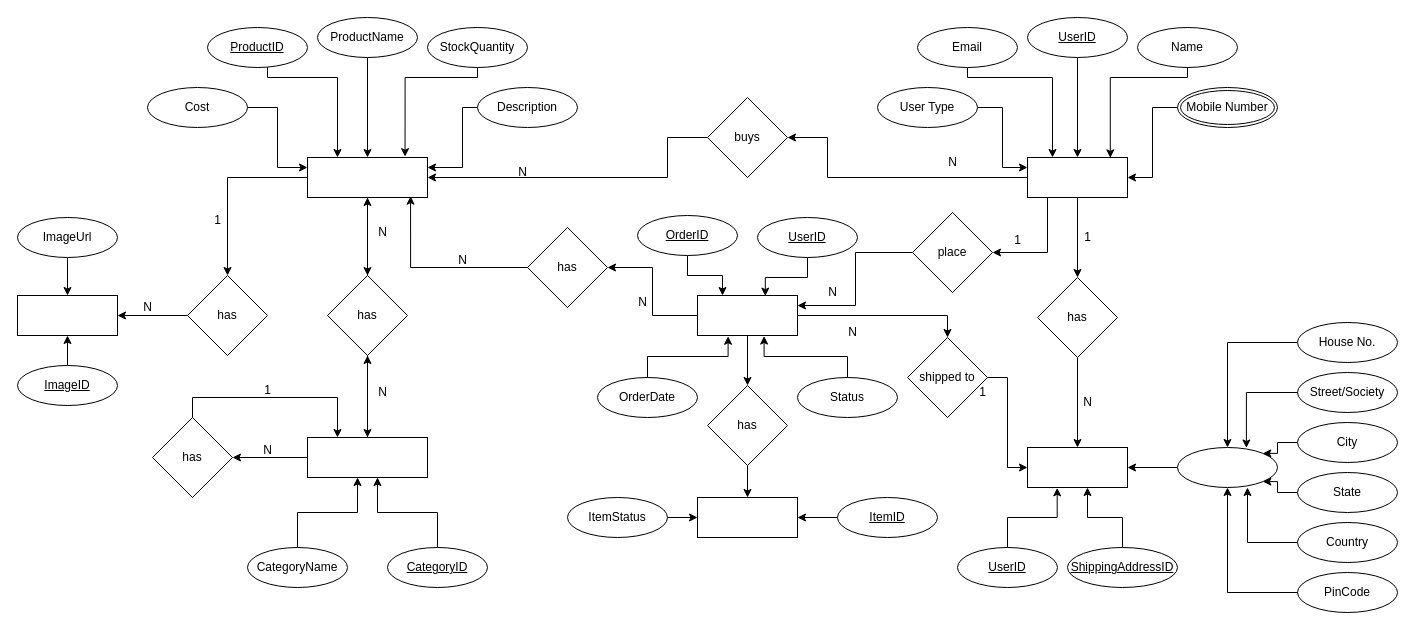
Some shapes in this 1415 by 630 pixel diagram are drawn without their labels. The shapes that lost their labels are listed below. From the top down, each one's centre as x and y in pixels, then its label:
At [367,177]: "Product".
At [1077,177]: "User".
At [67,315]: "Image".
At [747,315]: "Order".
At [367,457]: "Category".
At [1077,467]: "Shipping Address".
At [1227,467]: "Address".
At [747,517]: "Item".
